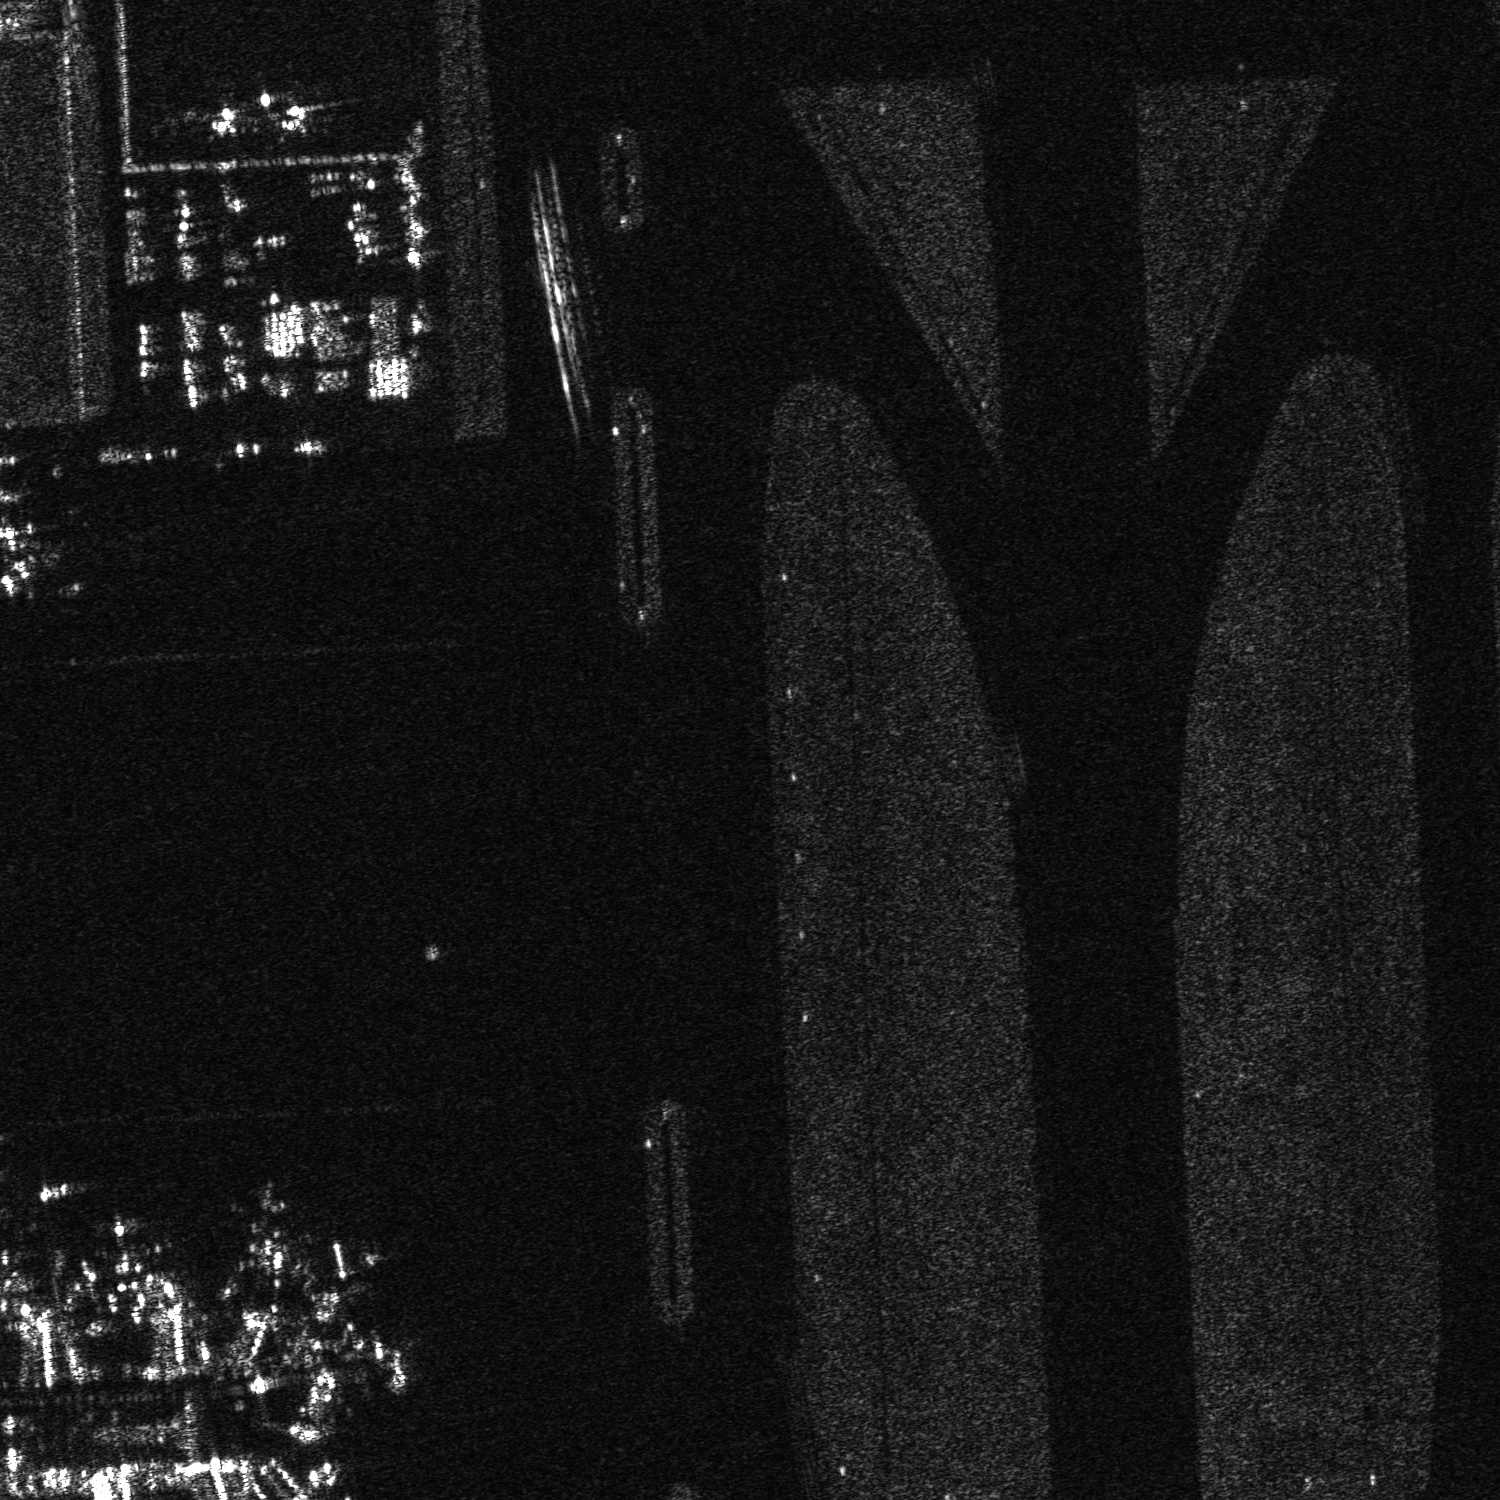A320/321: (80, 1207, 192, 1297), (220, 1187, 310, 1286)
ARJ21: (196, 87, 262, 148)
other: (268, 84, 364, 132)
